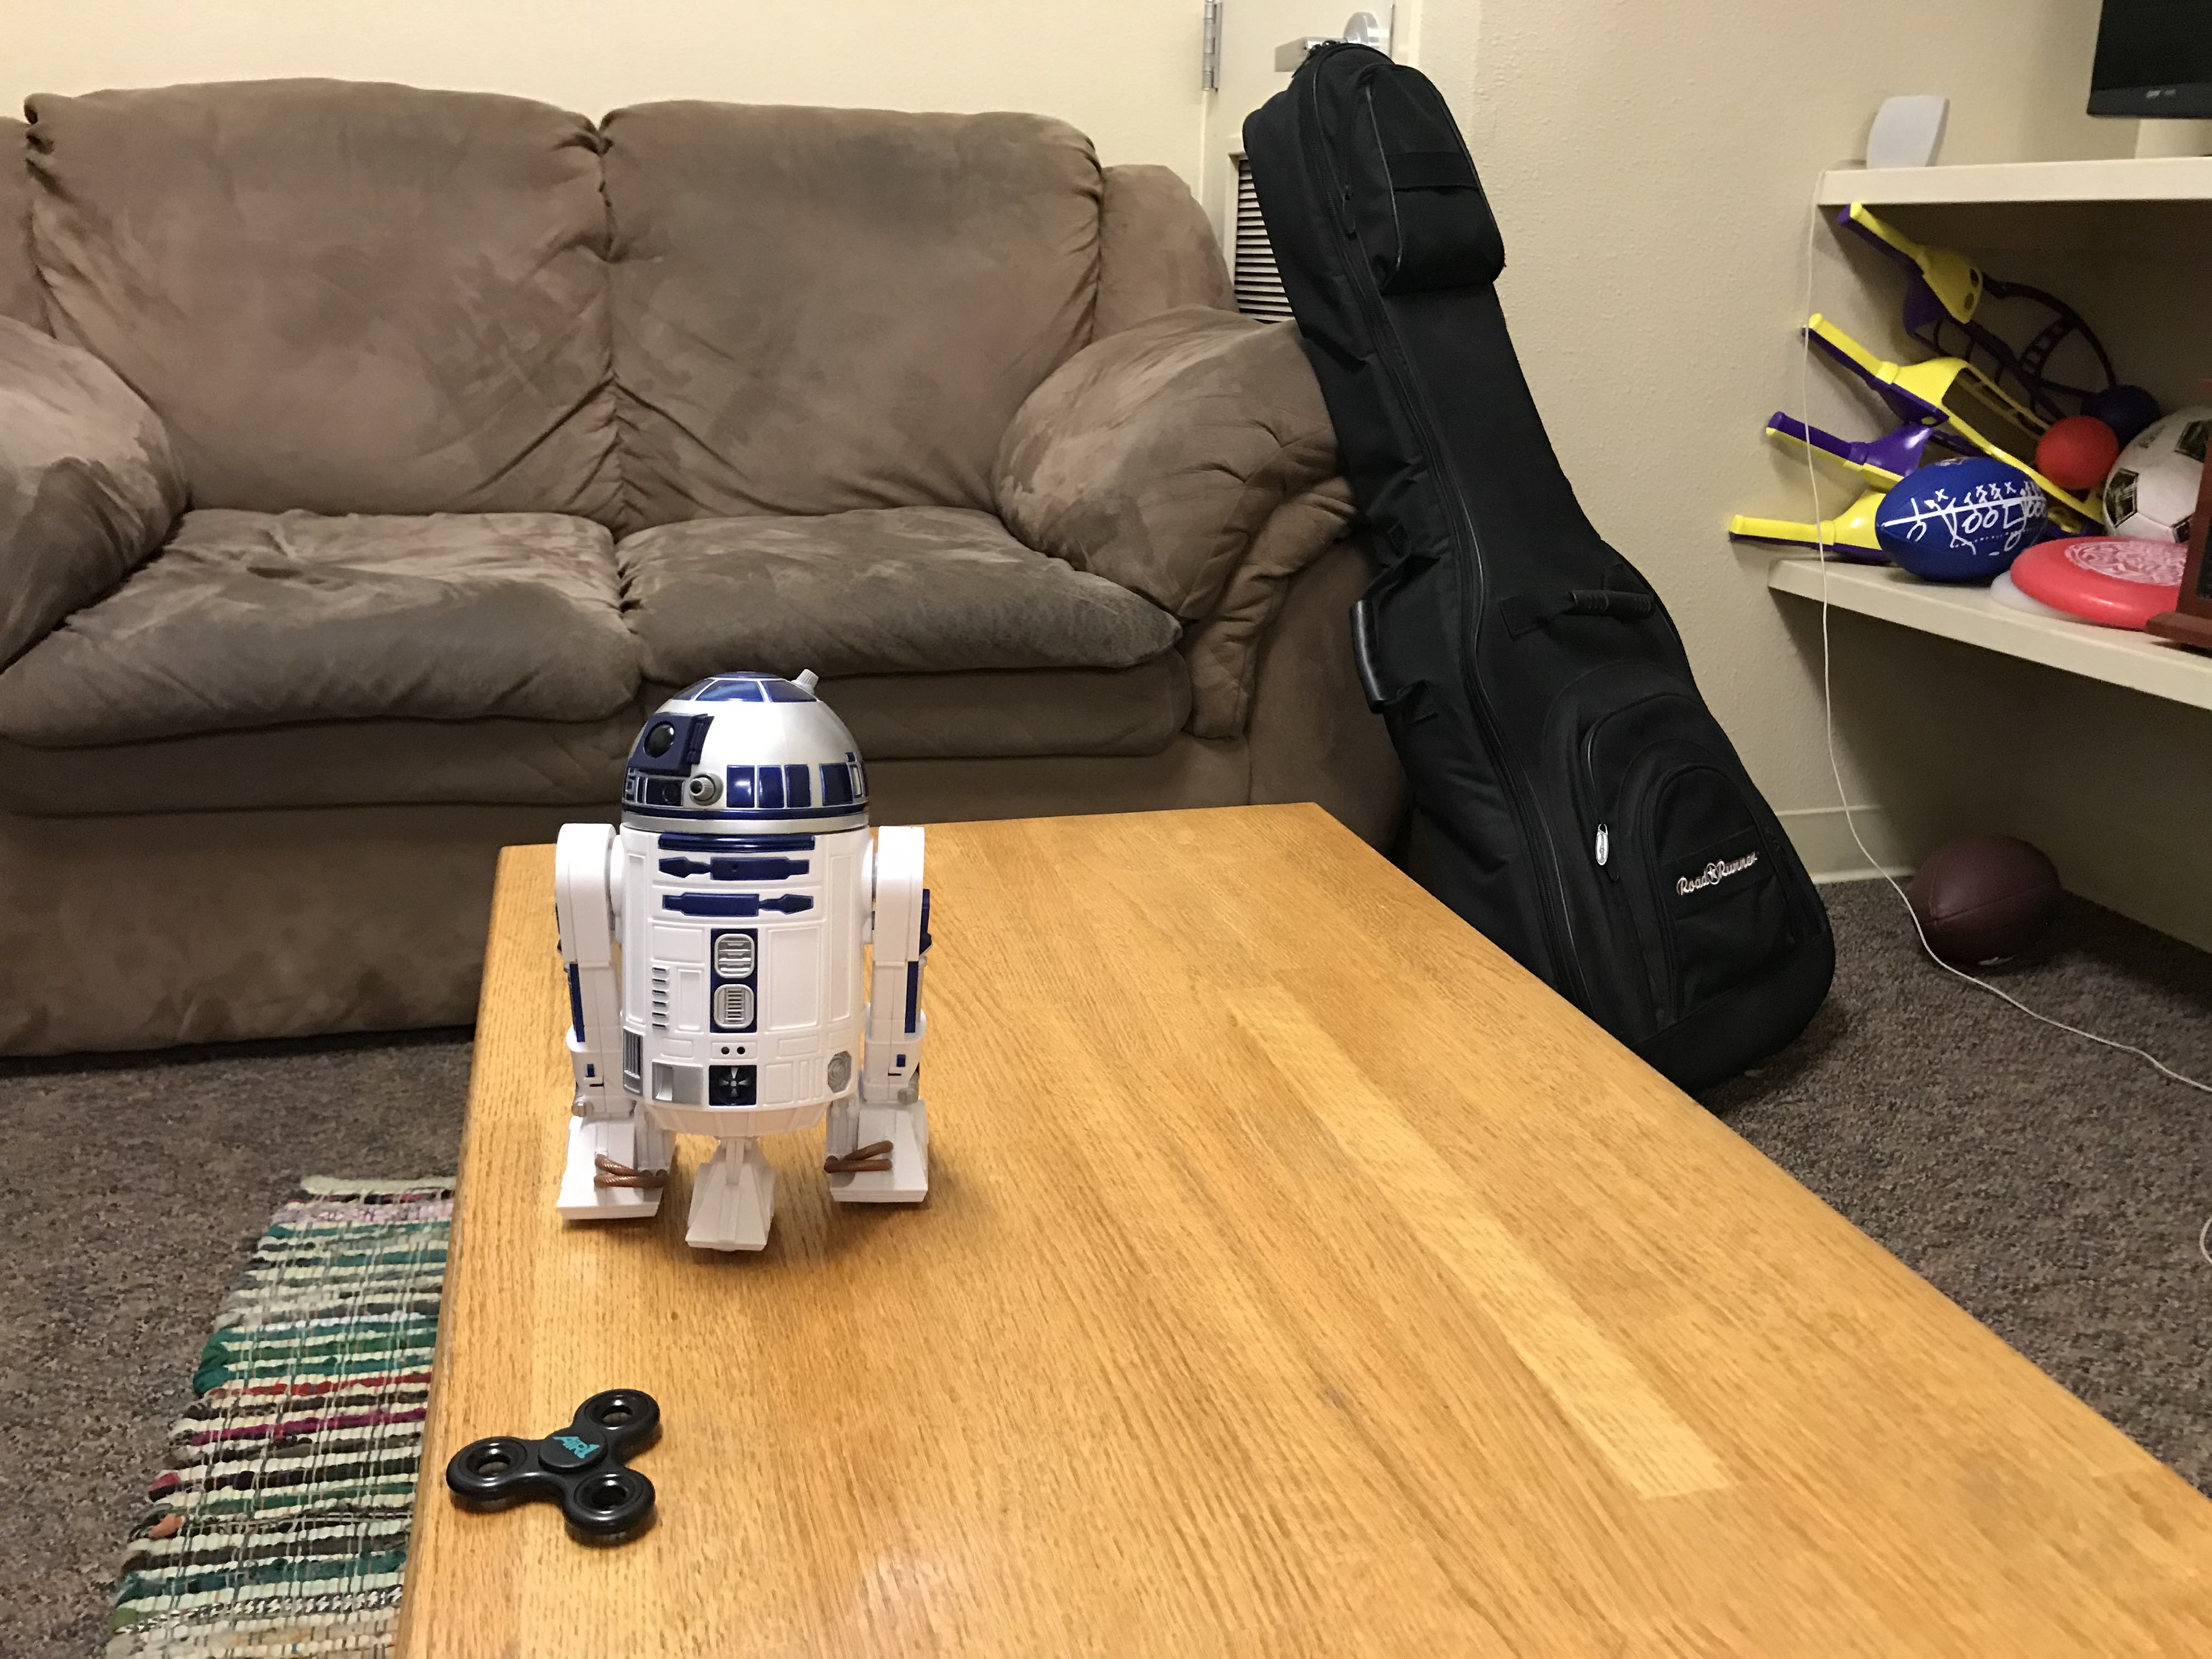r2d2: (556, 667, 928, 1249)
